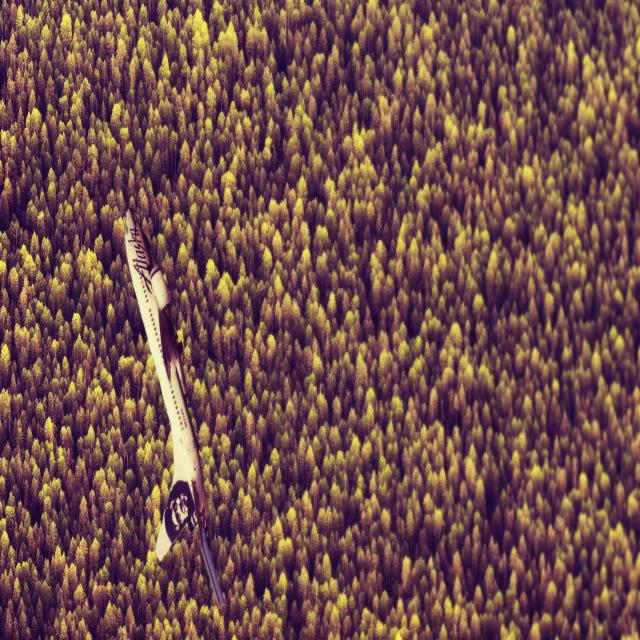airplane: (123, 206, 226, 606)
